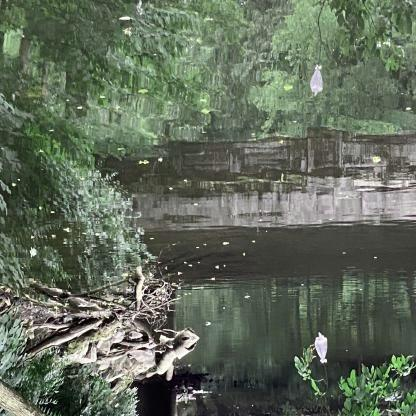Plastic: (307, 62, 325, 104)
